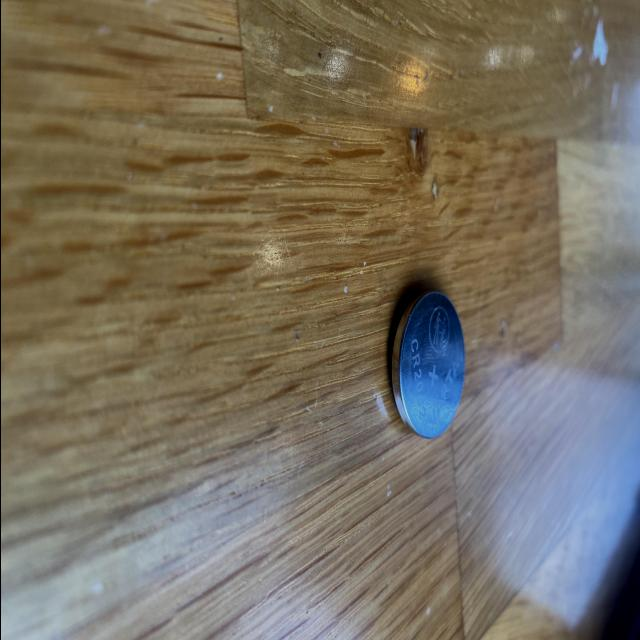COIN: (390, 289, 466, 439)
